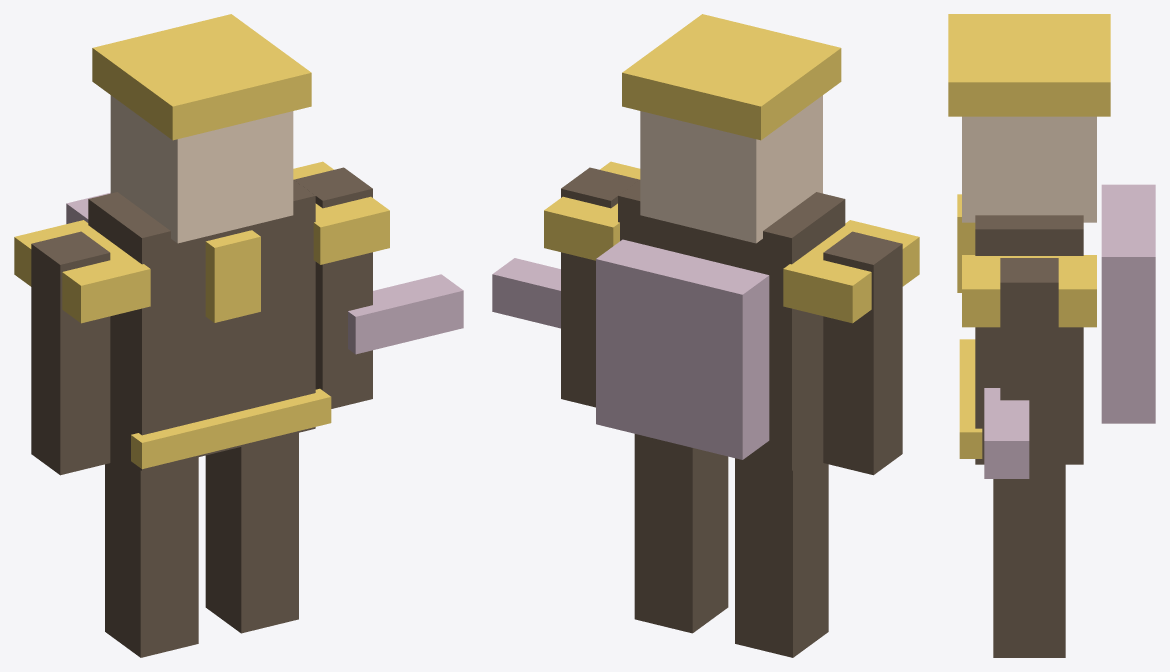
Rendered from 05_asha_gantryn_herald_at_prize.glb.
3 renders of one model, left to right at view 1: azimuth 30°, elevation 25°; view 2: azimuth 150°, elevation 25°; view 3: azimuth 270°, elevation 25°, orthographic.
Parts seen in each view (by area): view 1: Asha Gantryn, Herald at Prize; view 2: Asha Gantryn, Herald at Prize; view 3: Asha Gantryn, Herald at Prize.
Boxes of the visible parts, box(x1,y1,x2,y2) form: Asha Gantryn, Herald at Prize: box(14, 14, 463, 657); Asha Gantryn, Herald at Prize: box(492, 14, 919, 657); Asha Gantryn, Herald at Prize: box(948, 14, 1155, 657).
Bounding box in the file's own units: 1.08 × 1.48 × 0.4852.
